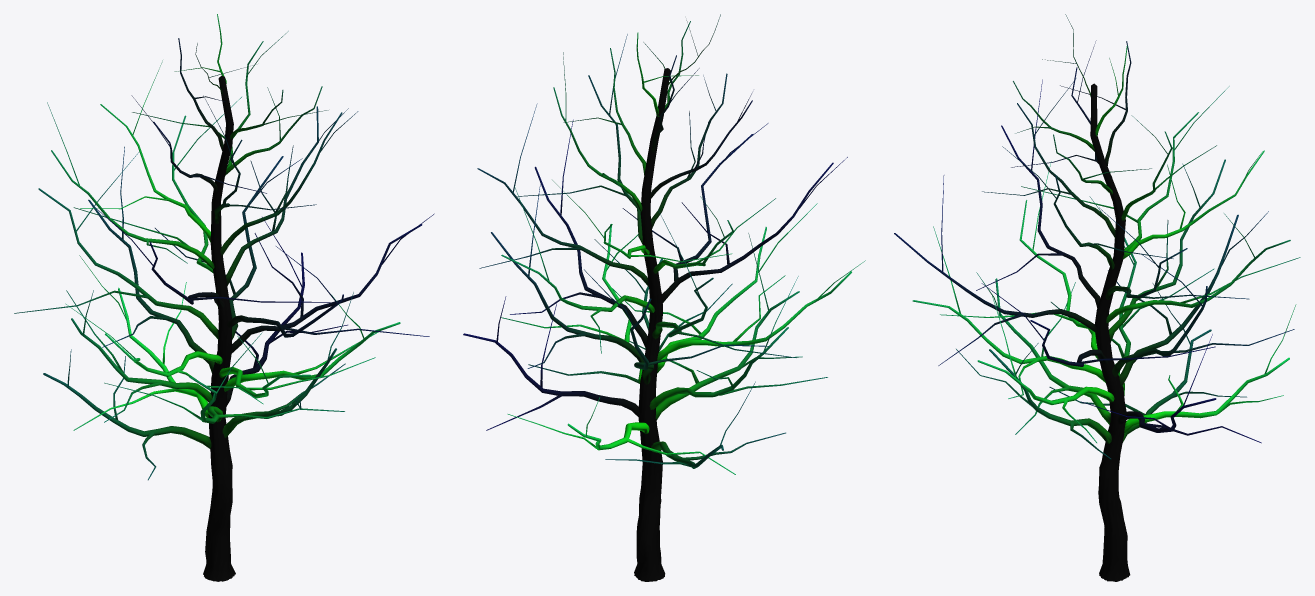
File: SM_WLTree_012.FBX
3 renders of one model, left to right at view 1: azimuth 30°, elevation 25°; view 2: azimuth 150°, elevation 25°; view 3: azimuth 270°, elevation 25°, orthographic. The views are drawn at different scales.
Visible parts, largest first — view 1: SM_WLTree_012_LOD0; view 2: SM_WLTree_012_LOD0; view 3: SM_WLTree_012_LOD0.
Boxes of the visible parts, left/top/right/bottom form: SM_WLTree_012_LOD0: left=14, top=14, right=434, bottom=581; SM_WLTree_012_LOD0: left=463, top=14, right=865, bottom=581; SM_WLTree_012_LOD0: left=894, top=14, right=1300, bottom=581.
Size of what is drawn, in the model's own units: 567 by 601 by 878.
